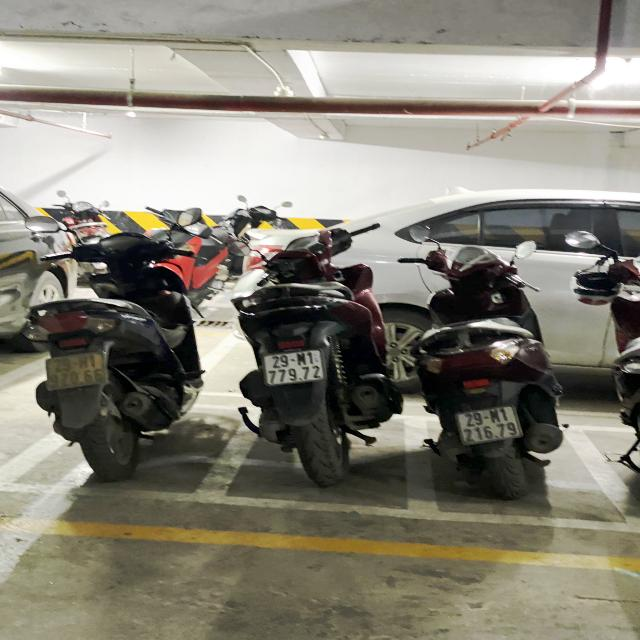license_plate: (452, 403, 527, 449), (261, 349, 330, 387)
